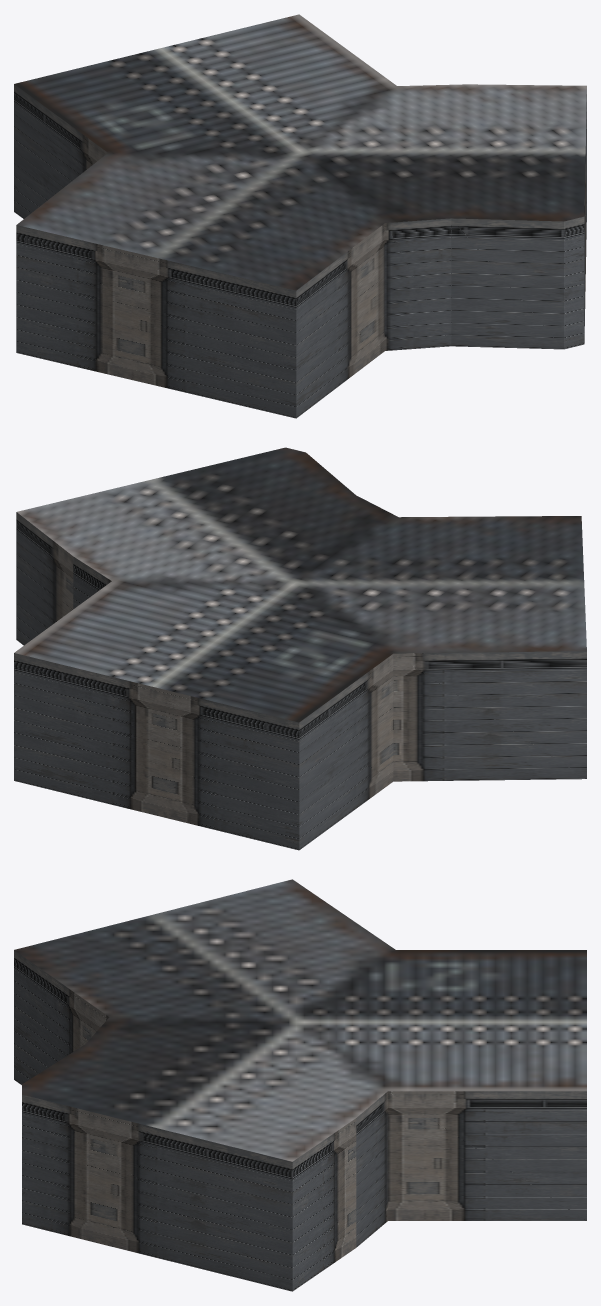
The model's file is hangar_medium_21.glb.
3 renders of one model, top to bottom at view 1: azimuth 30°, elevation 25°; view 2: azimuth 150°, elevation 25°; view 3: azimuth 270°, elevation 25°, orthographic.
Visible parts, largest first — view 1: buildings/saxarba/hangar_medium/hangar_medium_21; view 2: buildings/saxarba/hangar_medium/hangar_medium_21; view 3: buildings/saxarba/hangar_medium/hangar_medium_21.
Part boxes in pixels (x1,y1,x2,y2): buildings/saxarba/hangar_medium/hangar_medium_21: (14,14,586,418); buildings/saxarba/hangar_medium/hangar_medium_21: (14,447,586,850); buildings/saxarba/hangar_medium/hangar_medium_21: (14,879,586,1291).
Bounding box in the file's own units: 84 × 18 × 72.
